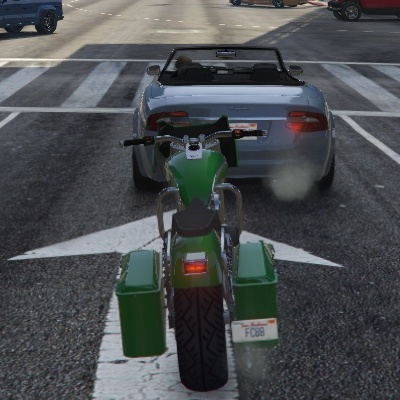on: (179, 249, 215, 278)
